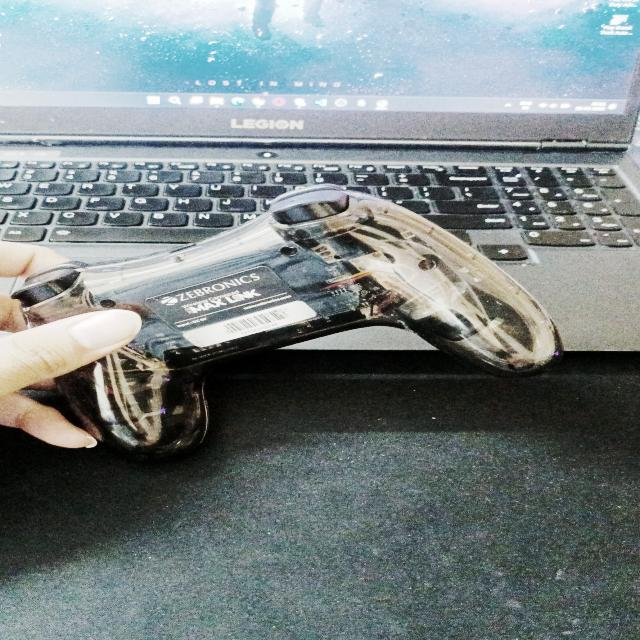gamepad: (6, 183, 564, 460)
